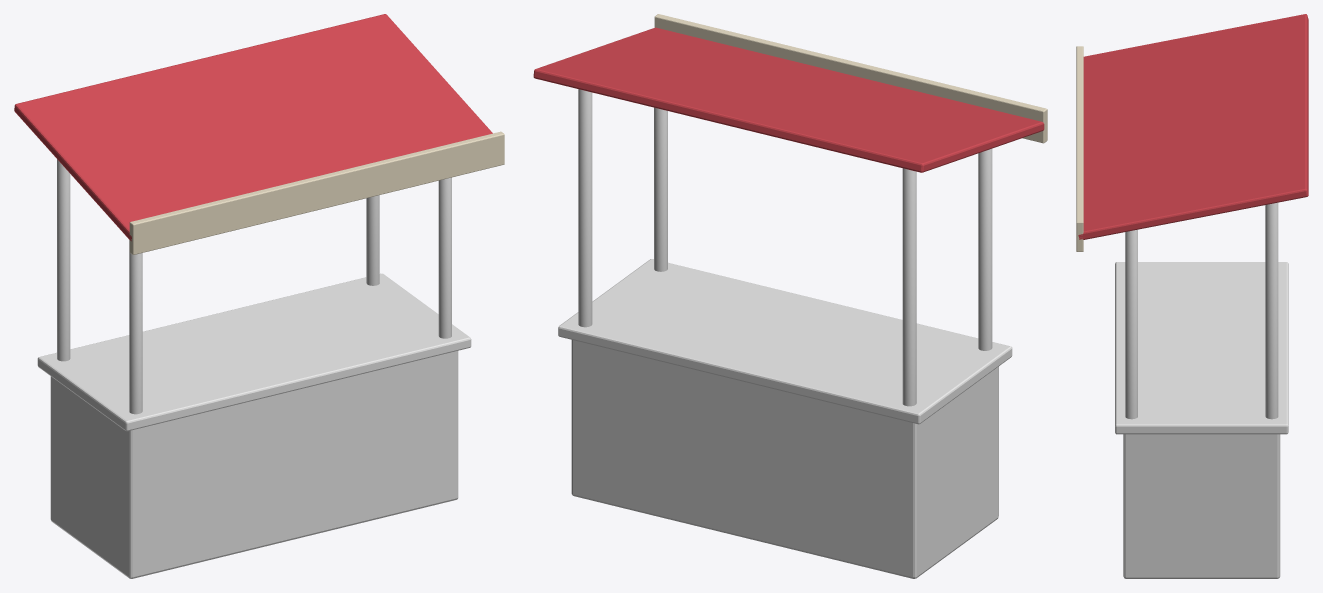
File: SM_Prop_MarketStall.fbx
The picture shows the model from 3 angles, left to right: view 1: azimuth 30°, elevation 25°; view 2: azimuth 150°, elevation 25°; view 3: azimuth 270°, elevation 25°; orthographic projection. The views are drawn at different scales.
Parts seen in each view (by area): view 1: Counter, Awning, CounterTop, AwningTrim, Post_-0.94_0.38, Post_-0.94_-0.38, Post_0.94_-0.38, Post_0.94_0.38; view 2: Counter, CounterTop, Awning, AwningTrim, Post_-0.94_0.38, Post_0.94_0.38, Post_-0.94_-0.38, Post_0.94_-0.38; view 3: Awning, CounterTop, Counter, Post_0.94_0.38, Post_0.94_-0.38, AwningTrim.
Boxes of the visible parts, <box> form: Counter: <box>50,351,458,578</box>; Awning: <box>14,14,492,241</box>; CounterTop: <box>37,273,471,431</box>; AwningTrim: <box>129,131,504,254</box>; Post_-0.94_0.38: <box>57,159,70,361</box>; Post_-0.94_-0.38: <box>129,240,142,414</box>; Post_0.94_-0.38: <box>438,177,451,338</box>; Post_0.94_0.38: <box>366,195,379,285</box>; Counter: <box>571,340,998,578</box>; CounterTop: <box>558,259,1012,424</box>; Awning: <box>533,27,1044,172</box>; AwningTrim: <box>654,14,1047,143</box>; Post_-0.94_0.38: <box>902,168,916,406</box>; Post_0.94_0.38: <box>578,89,592,327</box>; Post_-0.94_-0.38: <box>978,148,992,350</box>; Post_0.94_-0.38: <box>654,107,667,271</box>; Awning: <box>1078,14,1308,239</box>; CounterTop: <box>1115,262,1288,434</box>; Counter: <box>1123,434,1280,578</box>; Post_0.94_0.38: <box>1265,202,1278,419</box>; Post_0.94_-0.38: <box>1125,229,1137,419</box>; AwningTrim: <box>1076,46,1083,251</box>.
Size of the model in its own units: 2.26 by 2.4 by 1.26.
